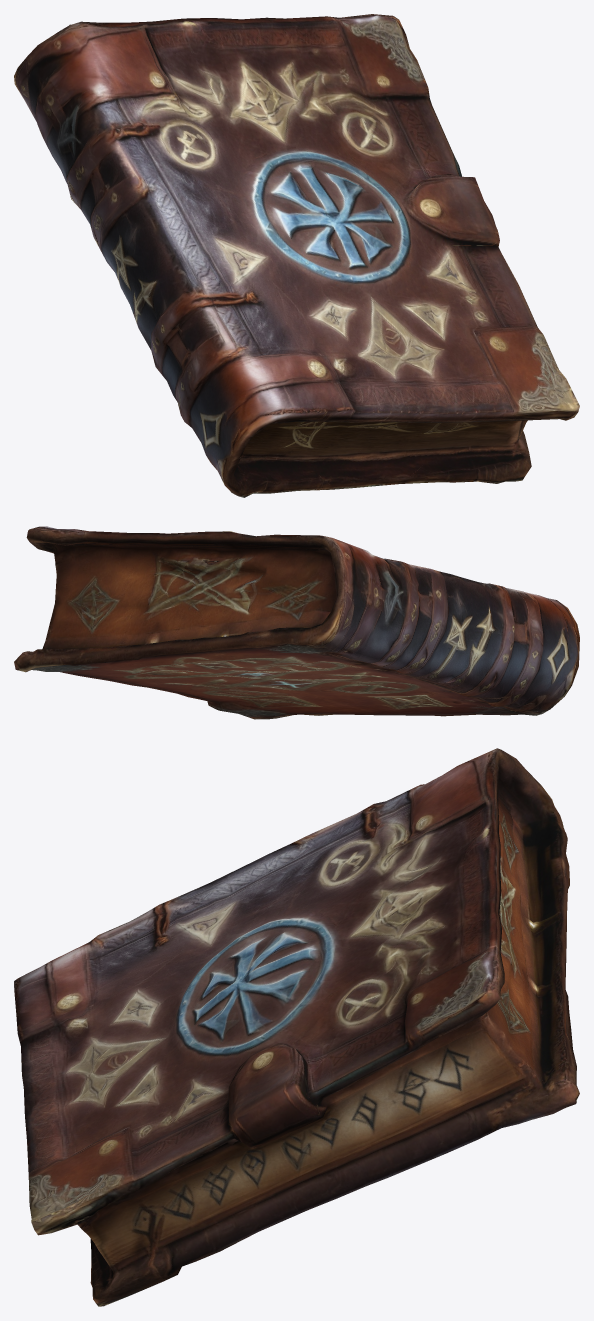
The model's file is book.glb.
3 renders of one model, top to bottom at view 1: azimuth 30°, elevation 25°; view 2: azimuth 150°, elevation 25°; view 3: azimuth 270°, elevation 25°, orthographic. The views are drawn at different scales.
Parts seen in each view (by area): view 1: Mesh_0.002; view 2: Mesh_0.002; view 3: Mesh_0.002.
Part boxes in pixels (x1,y1,x2,y2): Mesh_0.002: [14, 14, 579, 497]; Mesh_0.002: [14, 526, 579, 719]; Mesh_0.002: [14, 748, 579, 1306].
Bounding box in the file's own units: 1.66 × 1.64 × 2.
Materials: 1 (1 with a texture image).
